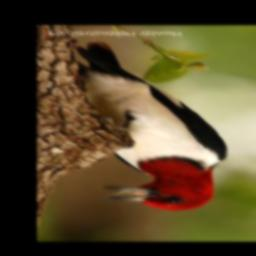Woodpecker: (77, 42, 229, 212)
